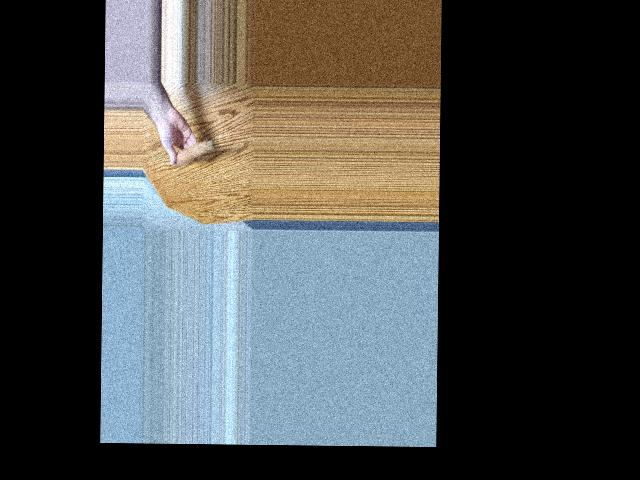sweet_potato: (171, 137, 214, 166)
